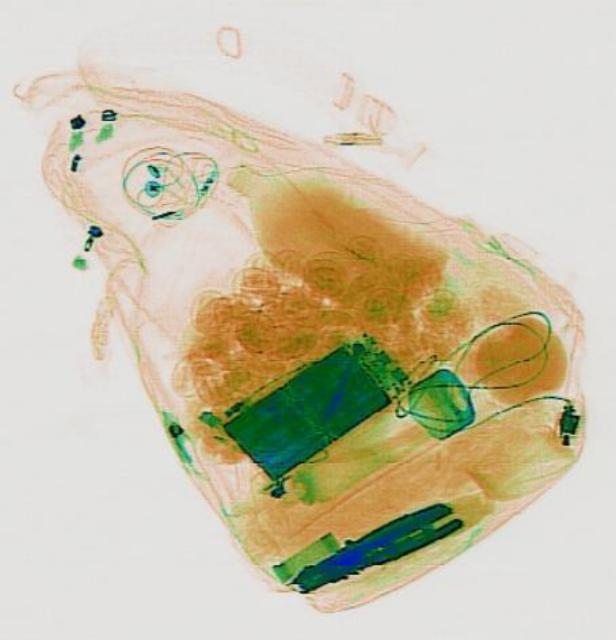Pliers: (285, 494, 462, 600)
